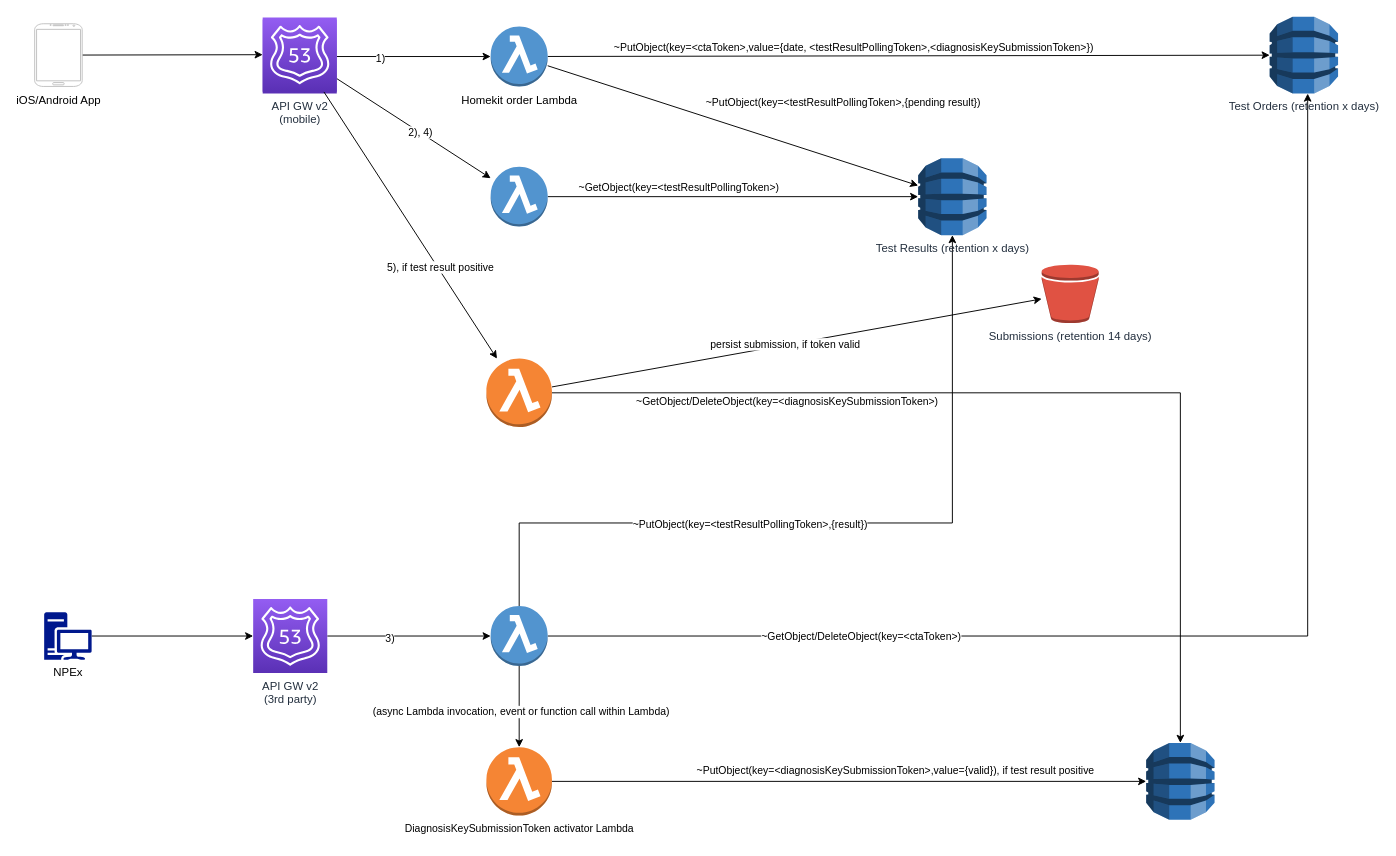
The diagram is 1396 pixels wide and 856 high, and some of its shapes have lost their labels. The shapes that lost their labels are listed below. From the top down, each one's centre as x and y in pixels, then its label:
At [519,196]: "Test result lookup Lambda".
At [518,392]: "Diagnosis Keys submission Lambda".
At [519,635]: "Test result upload Lambda".
At [1180,781]: "DK Submission Tokens (retention x days)".
